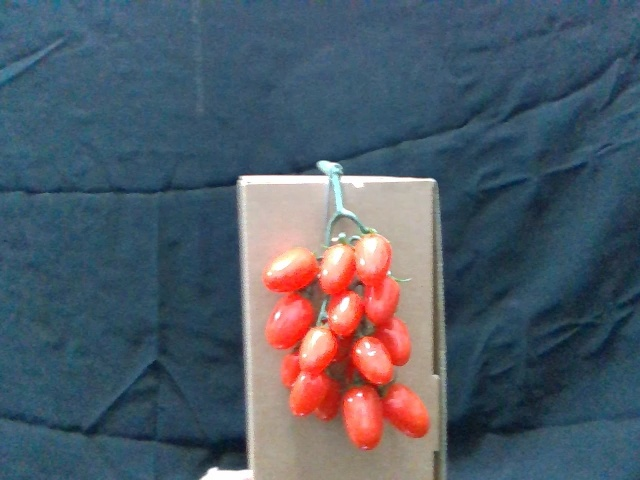tomato: (383, 382, 433, 441), (342, 387, 388, 451), (267, 297, 316, 353), (265, 249, 319, 294), (350, 333, 395, 385), (354, 232, 394, 288), (325, 289, 367, 342), (318, 245, 356, 298), (300, 325, 341, 374), (286, 372, 326, 420), (367, 277, 402, 328), (378, 317, 412, 365)
